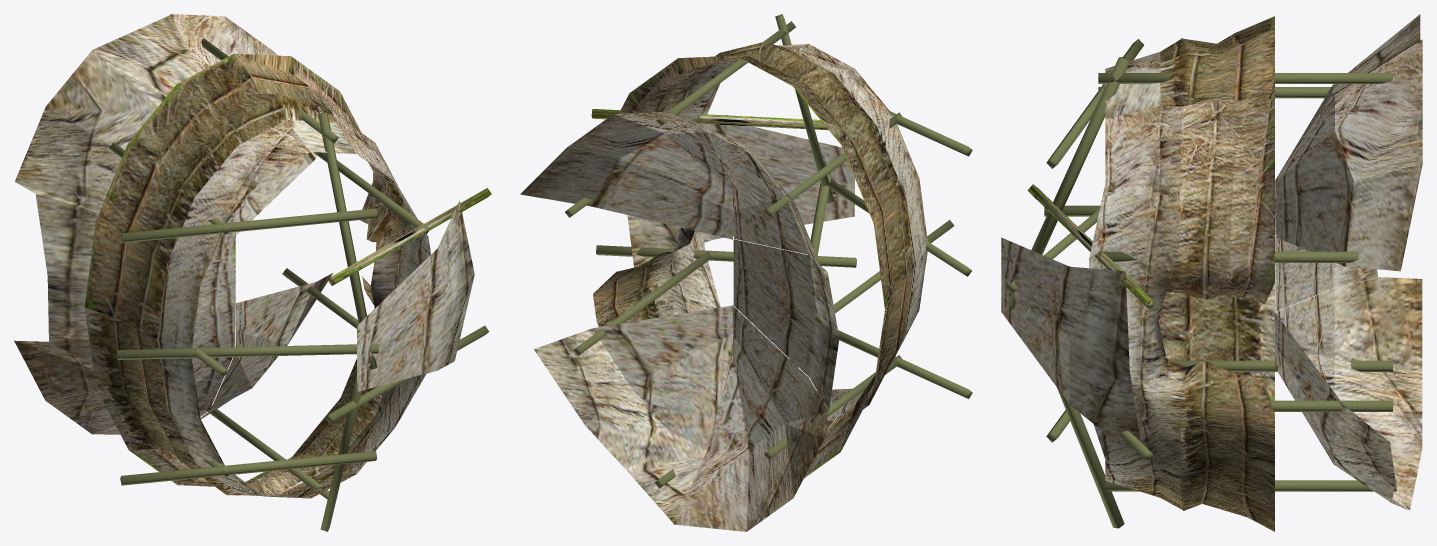
The model's file is hut_000032.obj.
The picture shows the model from 3 angles, left to right: view 1: azimuth 30°, elevation 25°; view 2: azimuth 150°, elevation 25°; view 3: azimuth 270°, elevation 25°; orthographic projection. The views are drawn at different scales.
Parts seen in each view (by area): view 1: Sphere.003, Sphere.002, Sphere.004, Sphere.001, Sphere.005, Sphere.007, Sphere.008, Sphere, Sphere.006, Cylinder.012_Cylinder.013, Cylinder.013_Cylinder.014, Cylinder.008_Cylinder.010 (+8 smaller); view 2: Sphere, Sphere.008, Sphere.006, Sphere.003, Sphere.001, Sphere.007, Sphere.002, Sphere.005, Sphere.004, Cylinder.010_Cylinder.011, Cylinder.011_Cylinder.012, Cylinder.003 (+9 smaller); view 3: Sphere.003, Sphere.001, Sphere.006, Sphere.002, Sphere.005, Sphere.008, Sphere, Sphere.007, Cylinder.009, Sphere.004, Cylinder.001, Cylinder.007 (+8 smaller).
Boxes of the visible parts, <box> form: Sphere.003: <box>136,95,430,498</box>; Sphere.002: <box>84,53,385,486</box>; Sphere.004: <box>15,15,235,237</box>; Sphere.001: <box>116,78,402,495</box>; Sphere.005: <box>357,200,474,391</box>; Sphere.007: <box>35,194,235,341</box>; Sphere.008: <box>14,303,235,434</box>; Sphere: <box>200,273,332,419</box>; Sphere.006: <box>170,14,316,235</box>; Cylinder.012_Cylinder.013: <box>120,451,377,485</box>; Cylinder.013_Cylinder.014: <box>120,208,377,242</box>; Cylinder.008_Cylinder.010: <box>117,343,378,359</box>; Sphere: <box>534,305,733,523</box>; Sphere.008: <box>673,306,828,531</box>; Sphere.006: <box>520,111,732,239</box>; Sphere.003: <box>649,43,927,433</box>; Sphere.001: <box>619,42,906,447</box>; Sphere.007: <box>733,239,839,410</box>; Sphere.002: <box>593,55,892,478</box>; Sphere.005: <box>627,124,854,267</box>; Sphere.004: <box>670,111,827,277</box>; Cylinder.010_Cylinder.011: <box>591,109,828,130</box>; Cylinder.011_Cylinder.012: <box>596,245,856,267</box>; Cylinder.003: <box>573,251,711,355</box>; Sphere.003: <box>1089,38,1190,510</box>; Sphere.001: <box>1178,33,1247,517</box>; Sphere.006: <box>1276,39,1422,271</box>; Sphere.002: <box>1224,16,1274,531</box>; Sphere.005: <box>1001,237,1140,448</box>; Sphere.008: <box>1276,277,1422,509</box>; Sphere: <box>1275,312,1407,509</box>; Sphere.007: <box>1275,236,1377,311</box>; Cylinder.009: <box>1006,57,1129,309</box>; Sphere.004: <box>1275,14,1420,235</box>; Cylinder.001: <box>1098,73,1392,83</box>; Cylinder.007: <box>1012,276,1124,528</box>.
Size of the model in its own units: 4.43 by 4.88 by 3.81.
